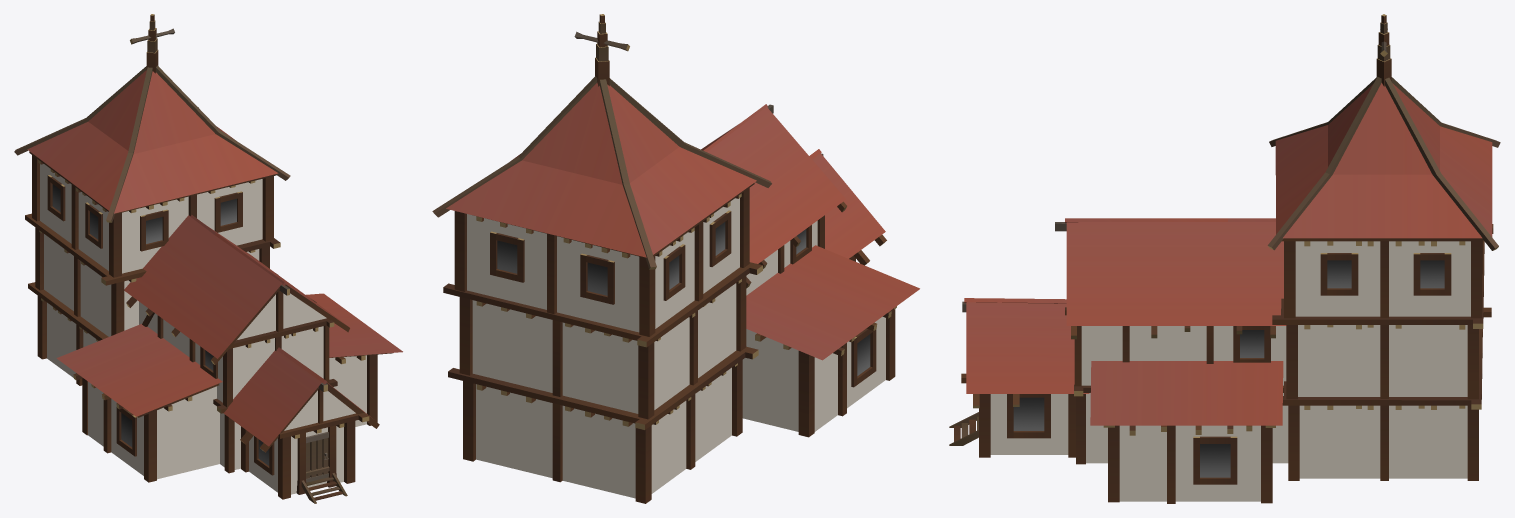
File: House_18_LOD1.fbx
3 renders of one model, left to right at view 1: azimuth 30°, elevation 25°; view 2: azimuth 150°, elevation 25°; view 3: azimuth 270°, elevation 25°, orthographic. The views are drawn at different scales.
Visible parts, largest first — view 1: polySurface9627; view 2: polySurface9627; view 3: polySurface9627.
Boxes of the visible parts, x1,y1,x2,y2 form: polySurface9627: (14, 14, 402, 503); polySurface9627: (432, 14, 919, 503); polySurface9627: (949, 14, 1500, 503).
Bounding box in the file's own units: 1245 × 1569 × 1857.
